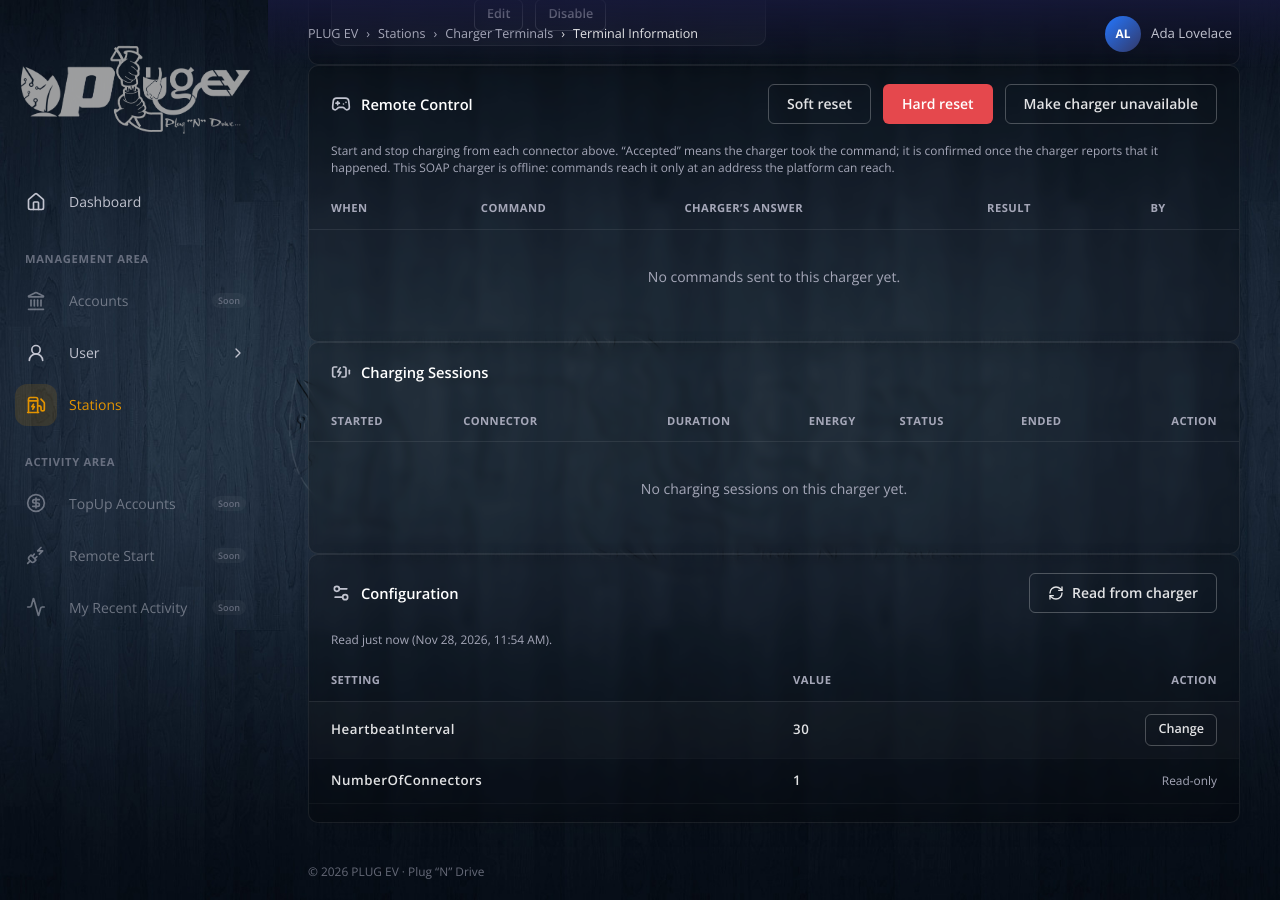
Test: remote control on the charger page › reads the configuration and changes a setting
This screenshot has width=1280, height=900.
(page scrolled)
expect the text "Read-only" is shown: met, box top-left (1162, 772), bottom-right (1217, 788)
Click the button with aria-label "Change HeartbeatInterval" at (1181, 730), box top-left (1146, 714), bottom-right (1217, 746)
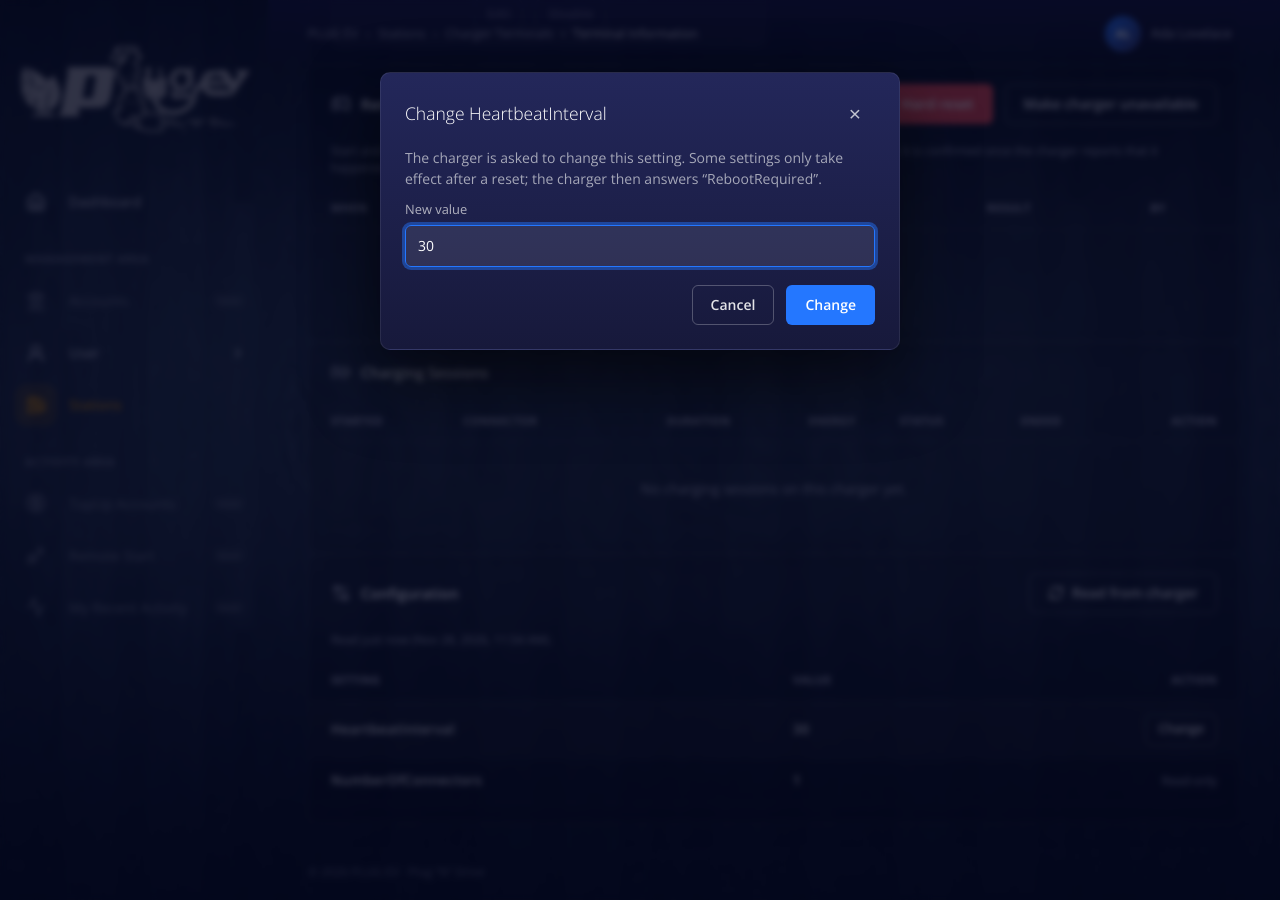
Replace the text in the field labelled "New value" with "60" at (640, 246), box top-left (405, 225), bottom-right (875, 267)
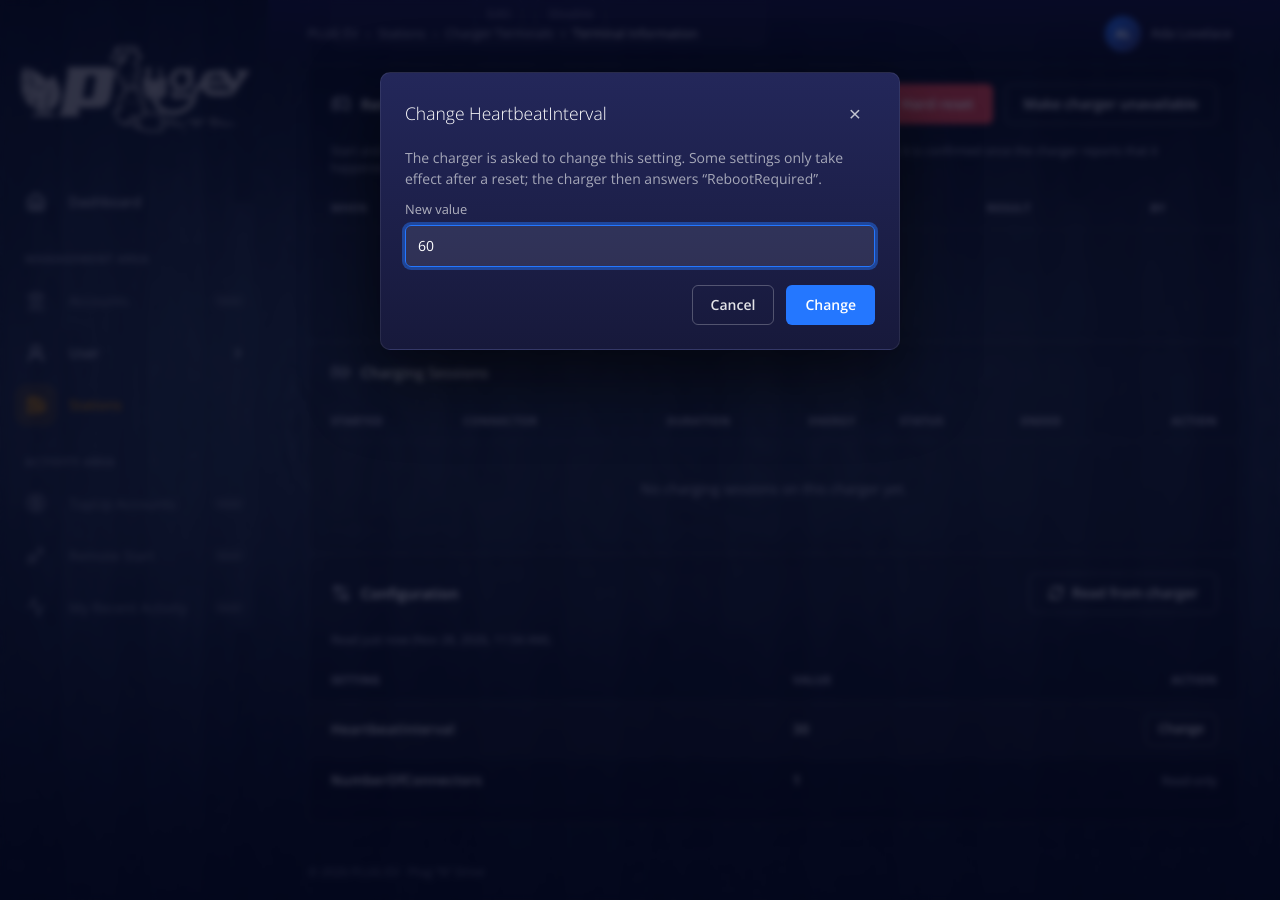
Click the button "Change" at (831, 305), box top-left (786, 285), bottom-right (875, 325)
(page scrolled)
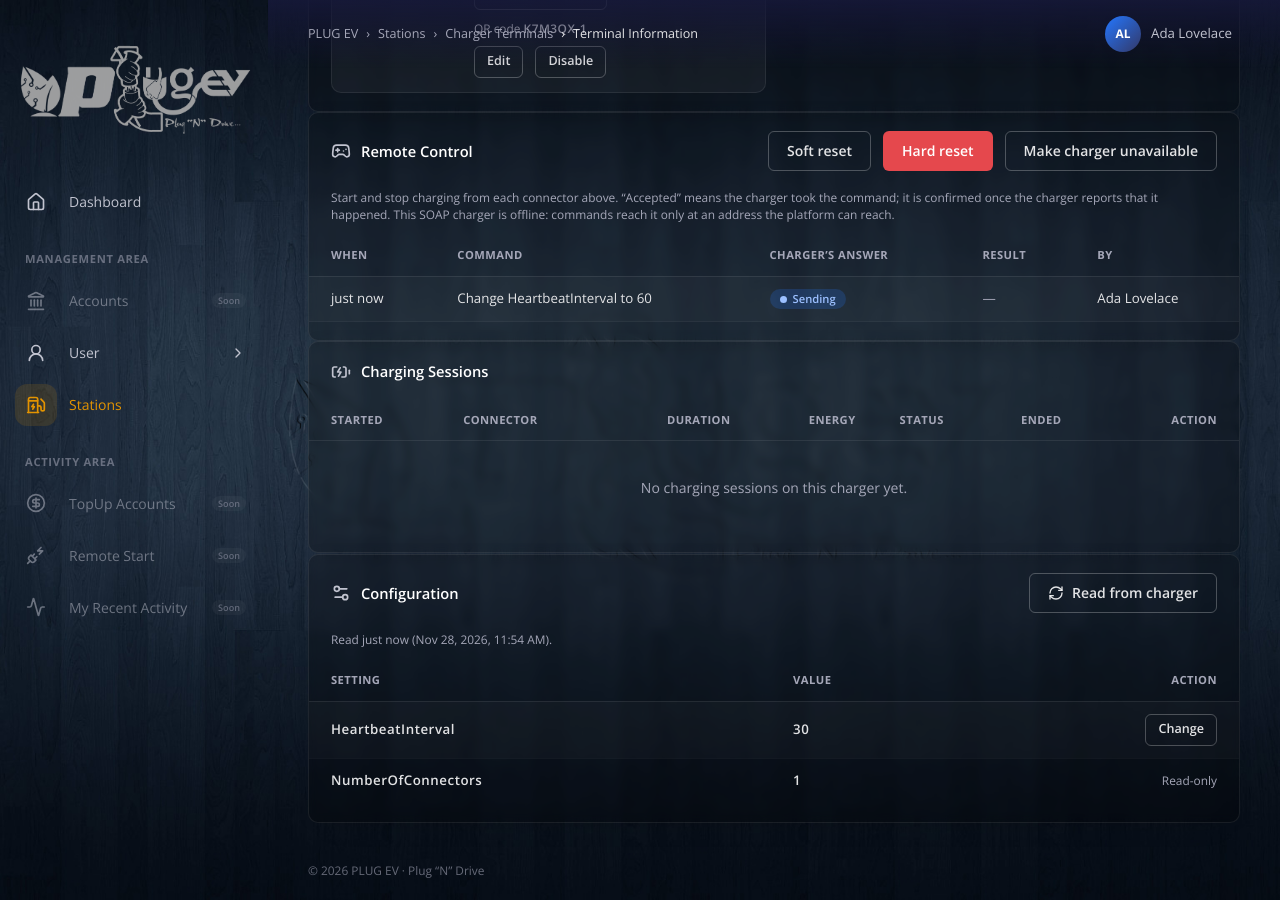
expect the text "Change HeartbeatInterval to 60" is shown: met, box top-left (435, 276), bottom-right (748, 322)
